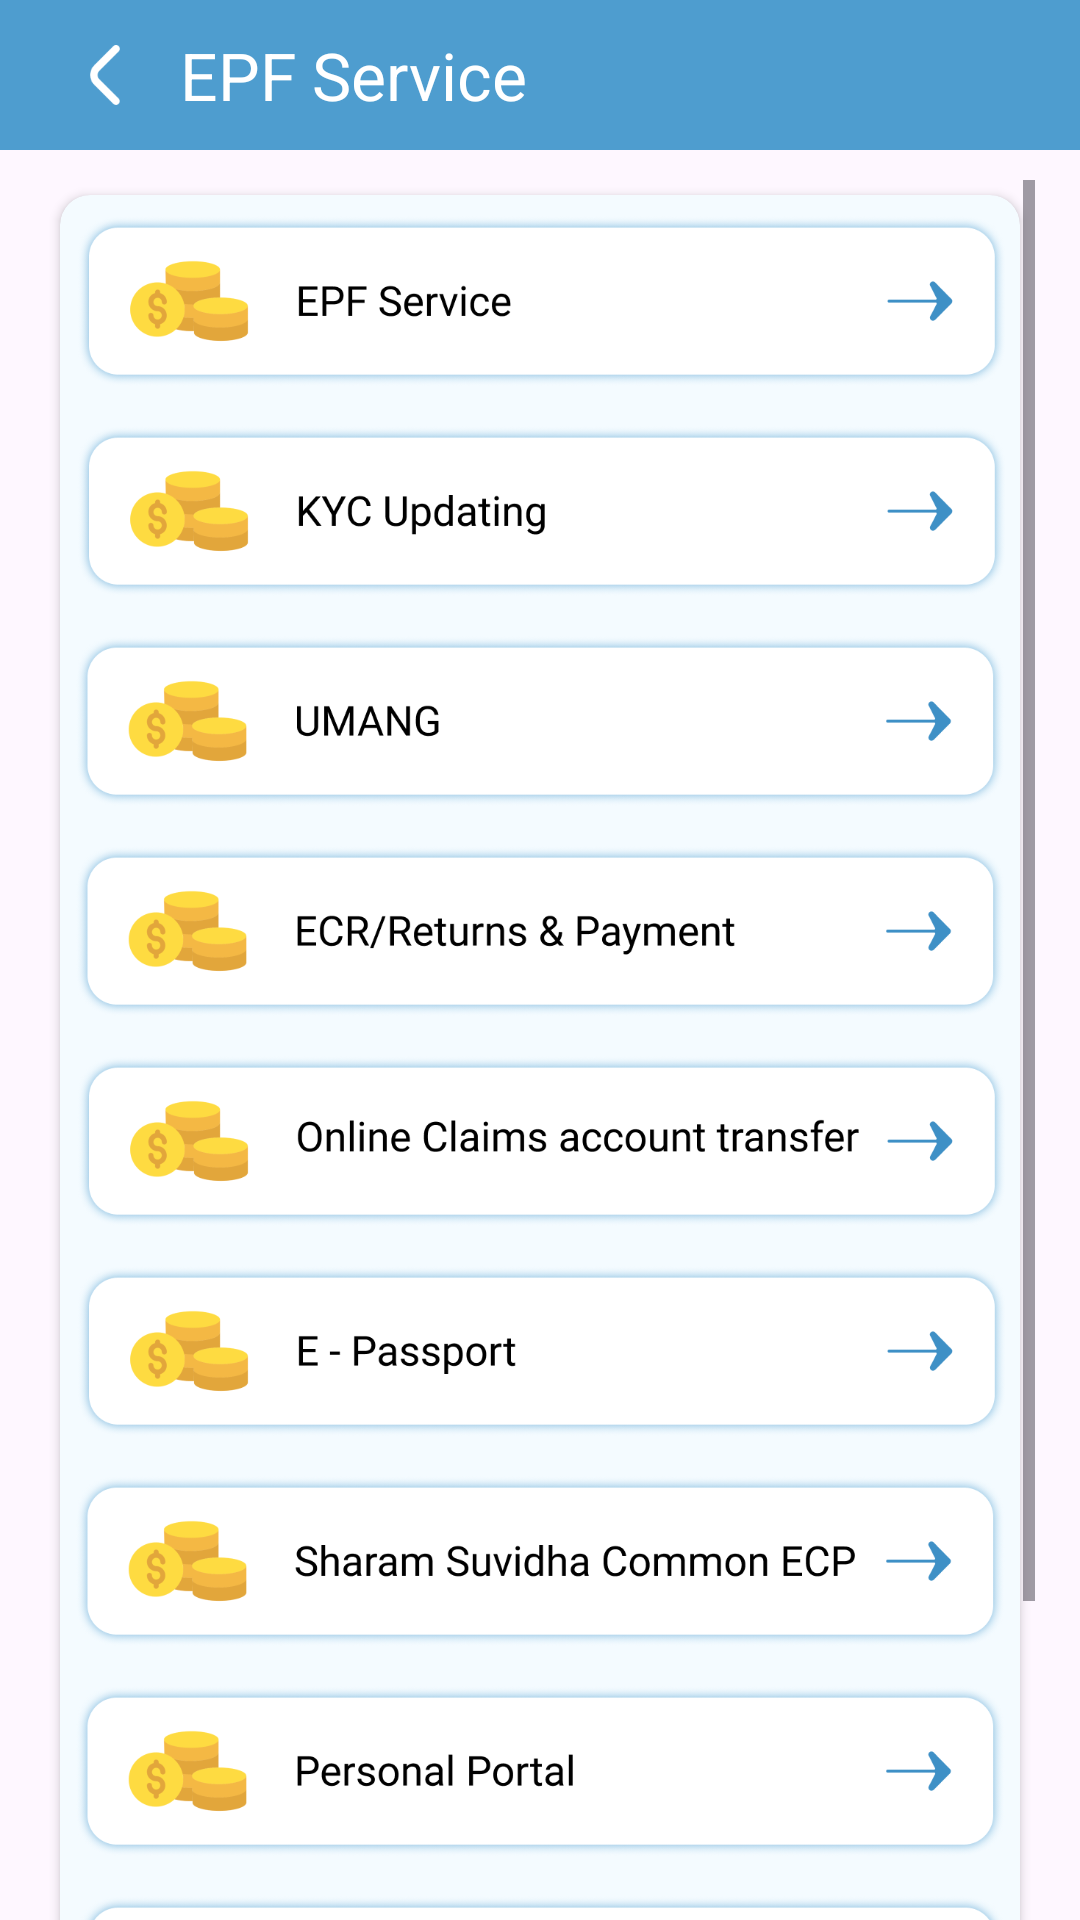

Where icons sit on this 1080px x 1920px app screen, as [x1,y1,x2,y2]:
back: [90,45,120,105]
